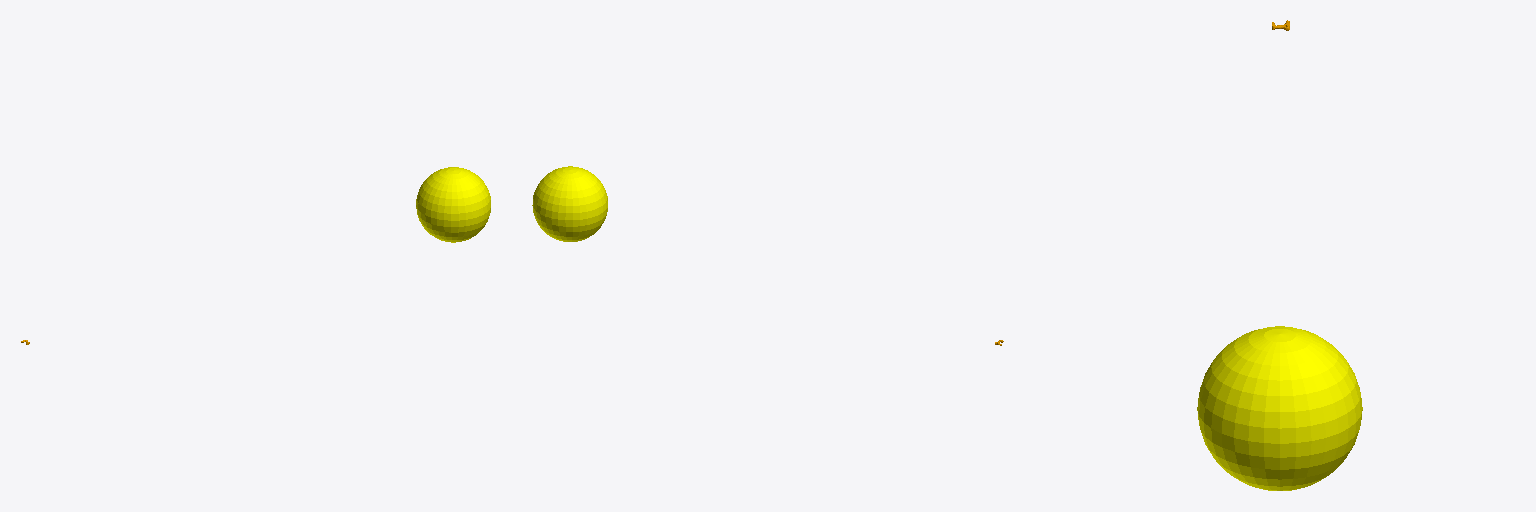
URDF robot description (mug):
<?xml version="1.0"?>
<robot name="mug">
  <link name="mug">
    <visual>
      <origin xyz="0.0 0.0 0.0"/>
      <geometry>
        <mesh filename="ycb/025_mug/textured.obj" scale="0.01 0.01 0.01"/>
      </geometry>
    </visual>
    <collision>
      <origin xyz="0.0 0.0 0.0"/>
      <geometry>
        <mesh filename="ycb/025_mug/mug_collision.obj" scale="0.01 0.01 0.01"/>
      </geometry>
    </collision>
    <inertial>
      <mass value="0.102"/>
      <inertia ixx="0.0001" ixy="0.0" ixz="0.0" iyy="0.0001" iyz="0.0" izz="0.0001"/>
    </inertial>
  </link>

  <link name="handle_target">
    <visual>
      <geometry>
        <sphere radius="0.005"/> </geometry>
      <material name="yellow">
        <color rgba="1 1 0 1"/> </material>
    </visual>
    </link>

  <joint name="mug_to_handle" type="fixed">
    <parent link="mug"/>
    <child link="handle_target"/>
    <origin xyz="0.065 0.0 0.005" rpy="0 0 0"/>
  </joint>
</robot>

--- Facts derived from the render (not from the file) ---
3 views of the same robot in one strip: view 1: azimuth 30°, elevation 25°; view 2: azimuth 150°, elevation 25°; view 3: azimuth 270°, elevation 25° (orthographic).
Model mug with 2 links and 1 joints (1 fixed), rooted at mug, posed all joints at 0.
Visible links, largest first — view 1: handle_target; view 2: handle_target; view 3: handle_target.
Boxes of the visible links, x1,y1,x2,y2 form: handle_target: (416, 167, 490, 242); handle_target: (532, 166, 607, 241); handle_target: (1197, 326, 1362, 490).
Size in the robot's own frame: 0.0708 by 0.01 by 0.01 metres.
Meshes: 1 distinct files referenced, 1 mesh visuals loaded (1 OBJ).
